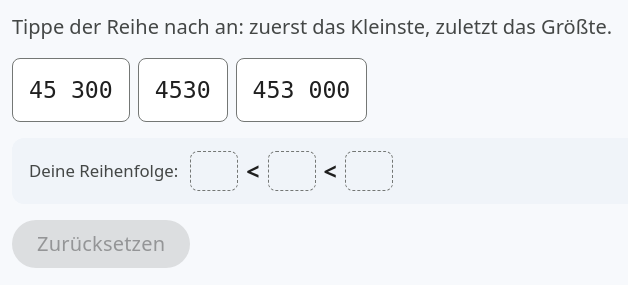
Test: OrderInput › chosen items show their position and are announced with it
Click the button "453 000".
click(301, 90)  # box [236,58,367,122]
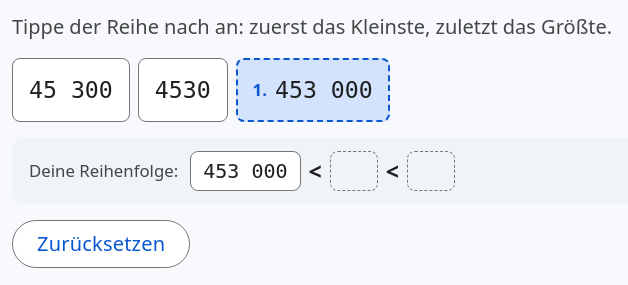
Expected: the button named "453000, Platz 1" shows "1.", [236,58,390,122]
